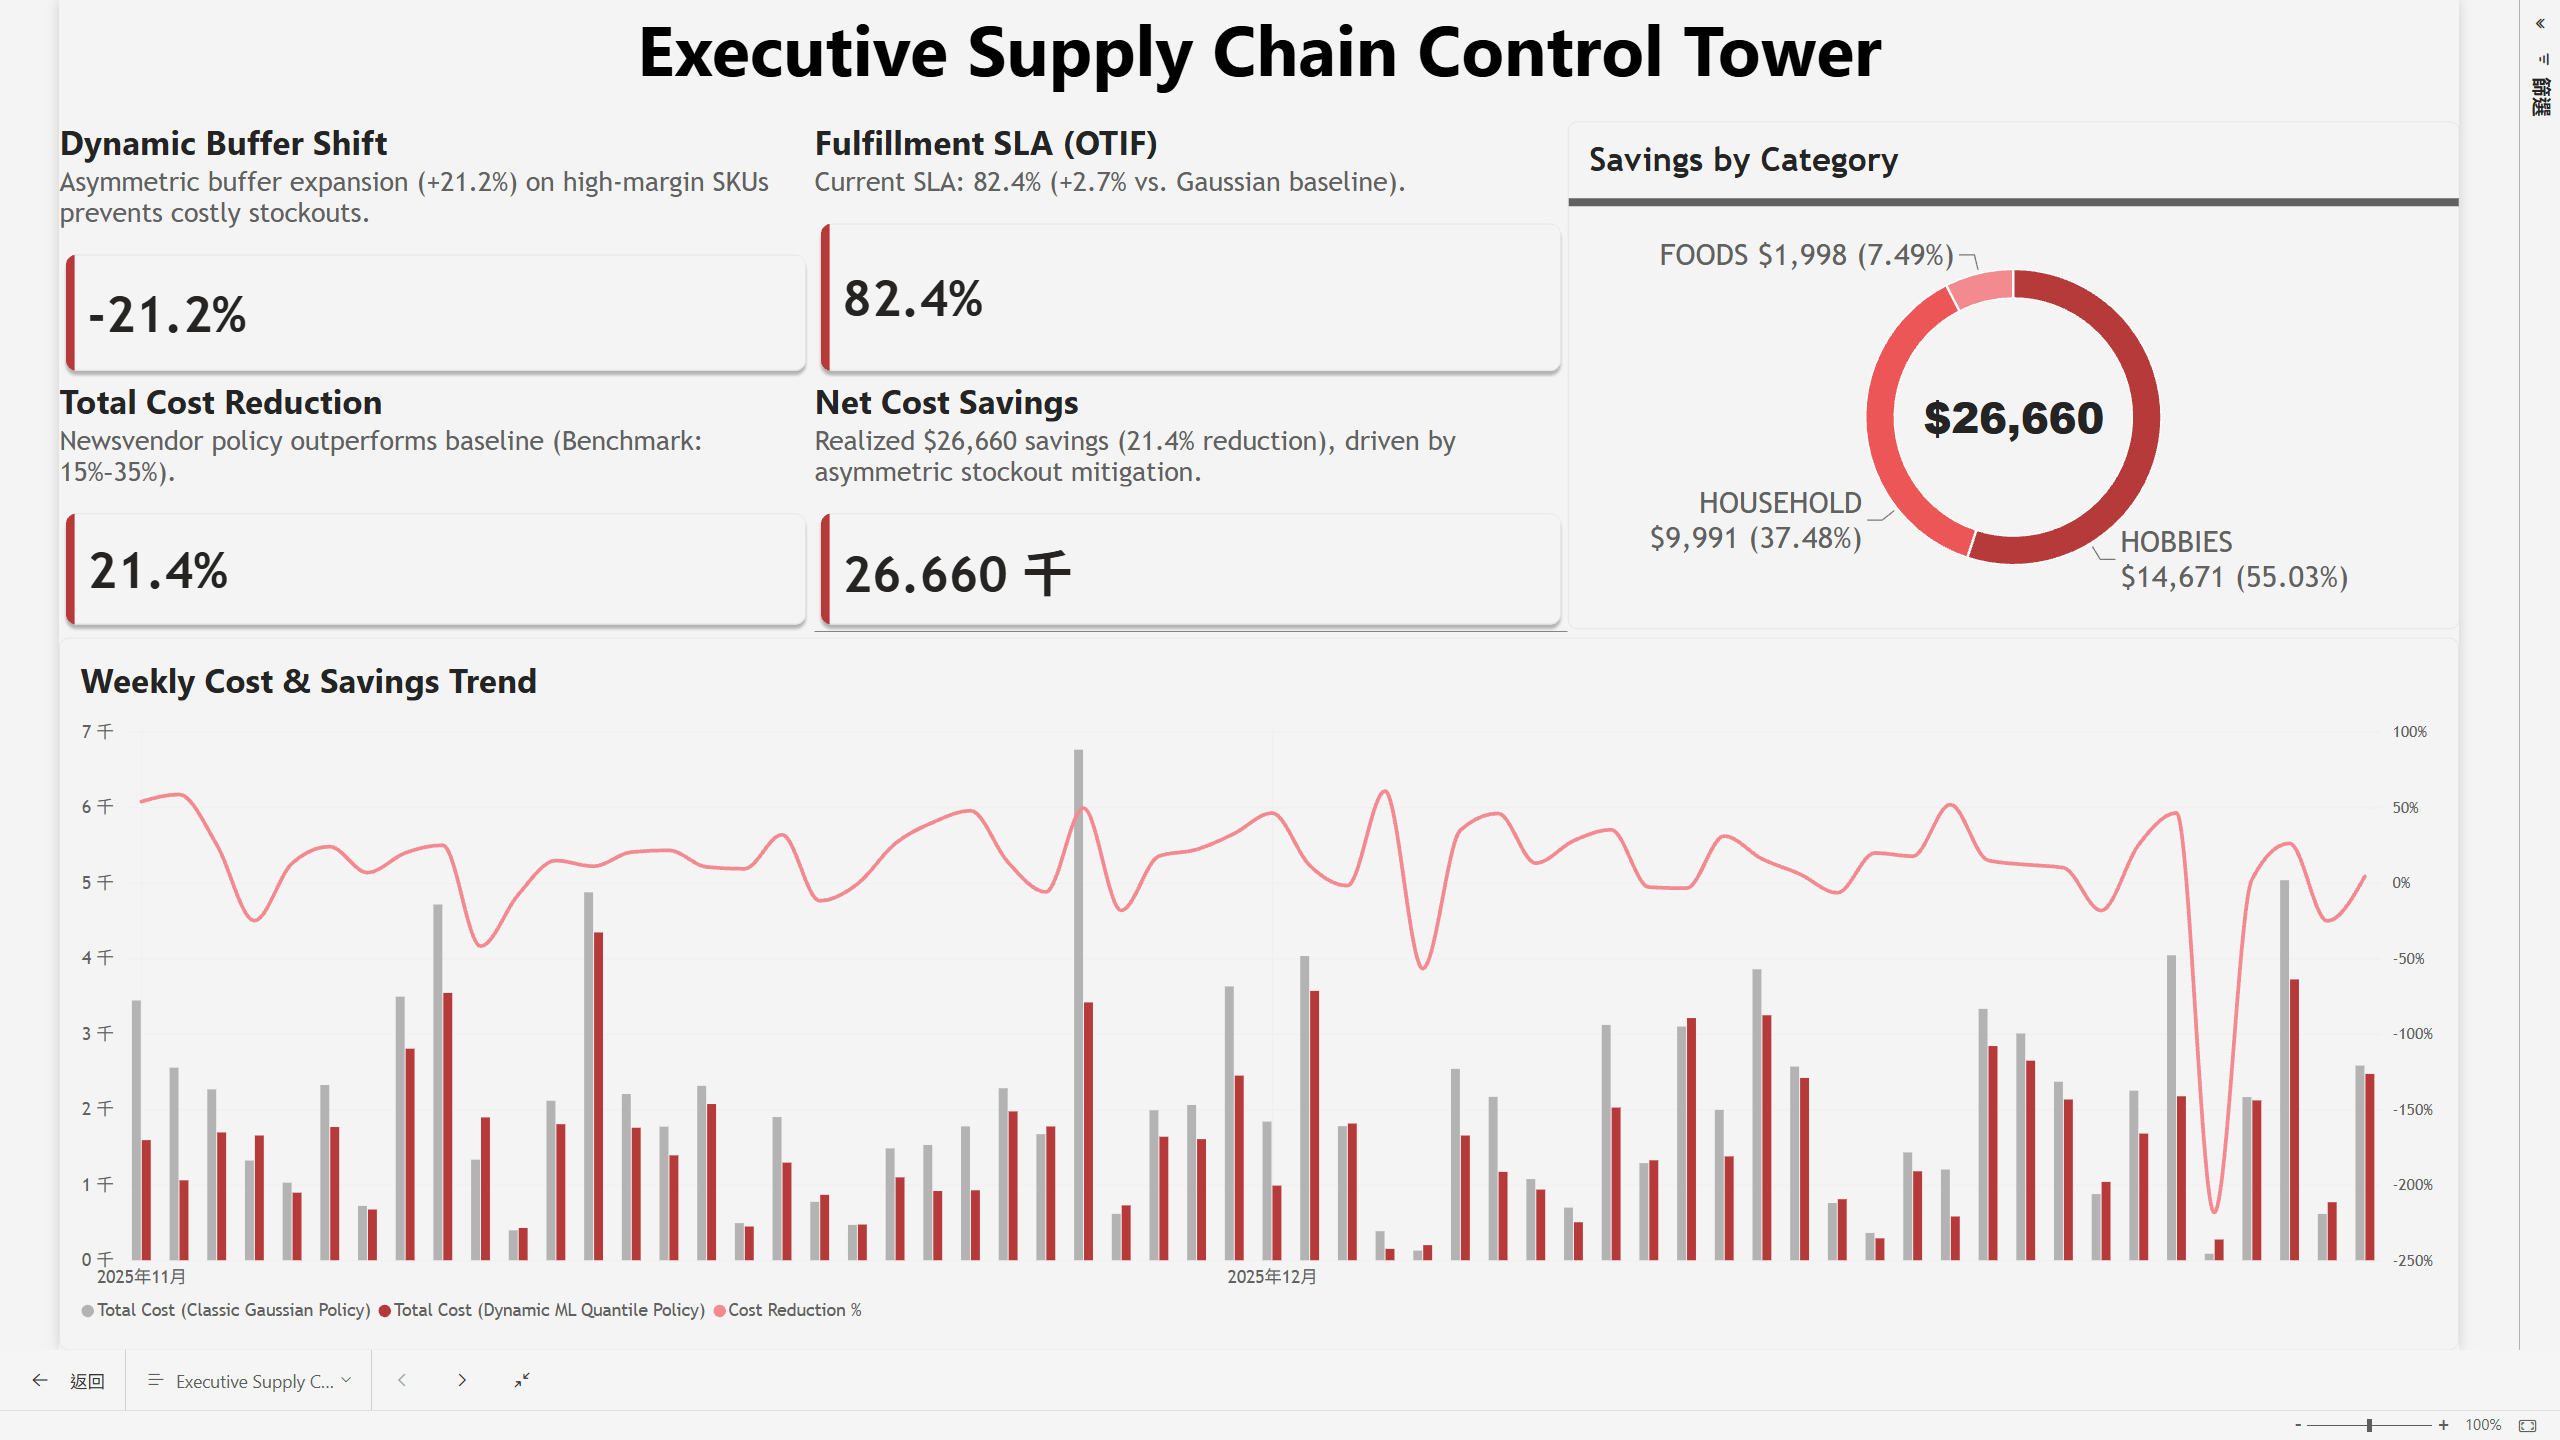

Layout of this report page (visuals, bound fields, positions):
{"tool":"powerbi","page":{"name":"Executive Supply Chain Control Tower","canvas":[1920,1080],"ordinal":0},"visuals":[{"type":"cardVisual","title":"Net Cost Savings","fields":{"Data":["_Measures.Net Cost Savings ($)"]},"box":[603.8,302,603.8,203],"z":0},{"type":"lineClusteredColumnComboChart","title":"Weekly Cost & Savings Trend","fields":{"Category":["Dim_Date.Date"],"Y":["_Measures.Total Cost (Classic Gaussian Policy)","_Measures.Total Cost (Dynamic ML Quantile Policy)"],"Y2":["_Measures.Cost Reduction %"]},"box":[0,510,1920,570],"z":1000},{"type":"cardVisual","title":"Total Cost Reduction","fields":{"Data":["_Measures.Cost Reduction %"]},"box":[0,302,603.8,203],"z":2000},{"type":"donutChart","title":"Savings by Category","fields":{"Category":["Dim_Product.Cat_ID"],"Y":["_Measures.Net Cost Savings ($)"]},"box":[1206.7,96.7,713.3,406.7],"z":3000},{"type":"cardVisual","title":"Dynamic Buffer Shift","fields":{"Data":["_Measures.Safety Stock Reduction %"]},"box":[0,95,603.8,207],"z":4000},{"type":"textbox","box":[0,0,1920,96],"z":5000},{"type":"cardVisual","title":"Fulfillment SLA (OTIF)","fields":{"Data":["_Measures.Service Level % (ML Quantile)"]},"box":[603.8,95,603.8,207],"z":6000}]}

Visuals, with their boxes on the page's 1920x1080 design canvas (x1, y1, x2, y2). These are canvas units, not pixel positions in the 2560x1440 screenshot, which may show the page scaled, cropped or inside an application window:
"Net Cost Savings" cardVisual: box=[604, 302, 1208, 505]
"Weekly Cost & Savings Trend" lineClusteredColumnComboChart: box=[0, 510, 1920, 1080]
"Total Cost Reduction" cardVisual: box=[0, 302, 604, 505]
"Savings by Category" donutChart: box=[1207, 97, 1920, 503]
"Dynamic Buffer Shift" cardVisual: box=[0, 95, 604, 302]
textbox: box=[0, 0, 1920, 96]
"Fulfillment SLA (OTIF)" cardVisual: box=[604, 95, 1208, 302]
